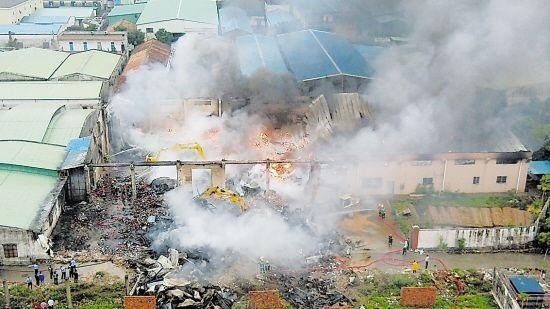fire: (257, 126, 302, 175)
